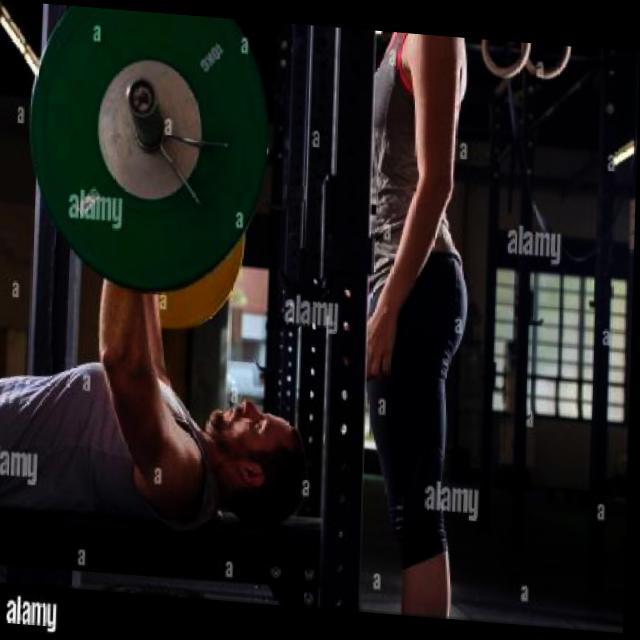barbell: (20, 3, 278, 301)
